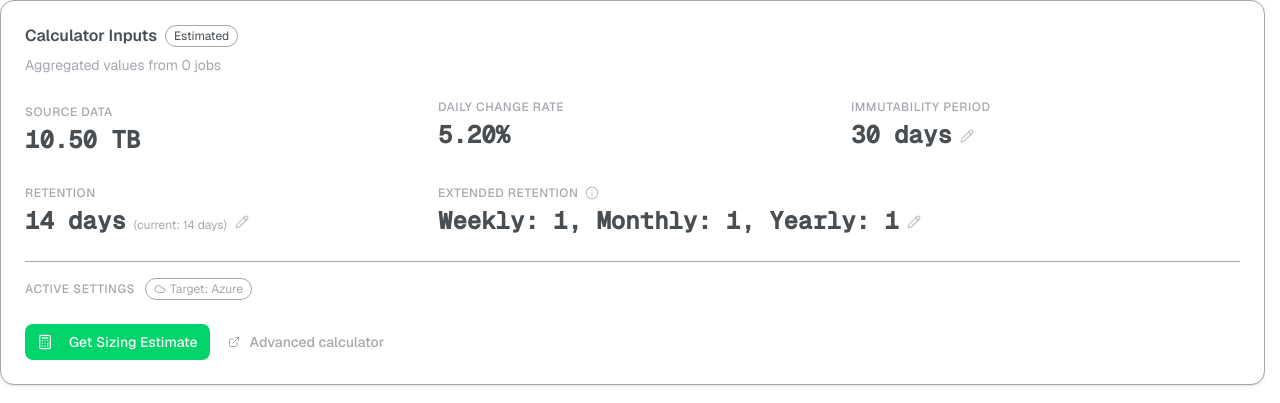
it: CalculatorInputs › breakdown hover cards › renders distinct rows without duplicate-key warnings when GFS policies share a job count
The image size is (1280, 403).
Hover over the button named "show gfs distribution breakdown" at (592, 193), box [585,186,599,200]
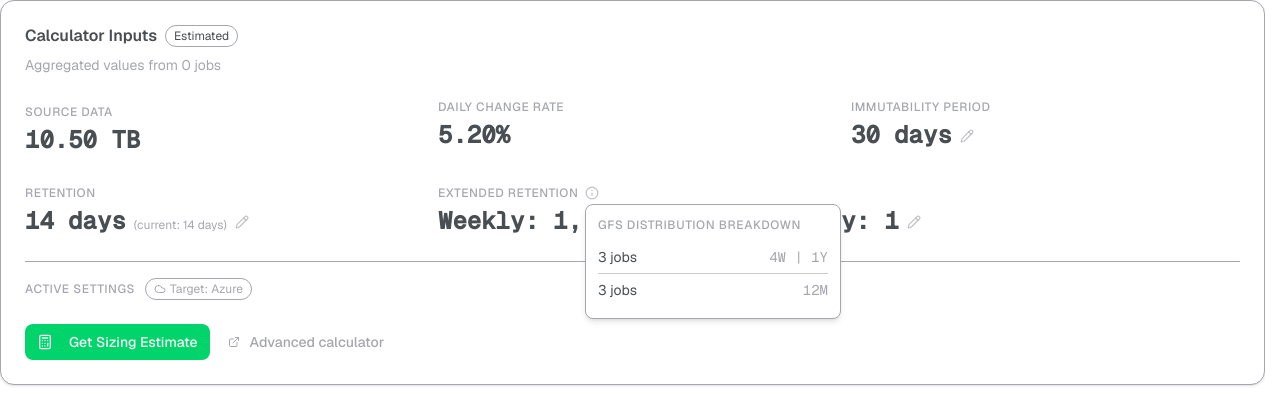
Check: the text "4W | 1Y" is shown, box [769,247,828,267]
Check: the text "12M" is shown, box [803,280,828,300]
Check: the text "3 jobs" is shown 2 times, box [598,247,637,267]; [598,280,637,300]
